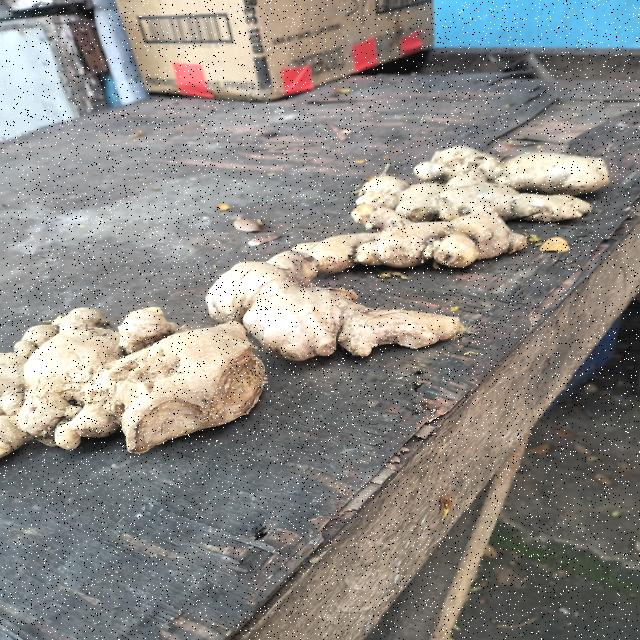ginger: (6, 294, 268, 467), (210, 270, 459, 370), (290, 194, 549, 282), (365, 164, 574, 228), (419, 132, 616, 198)
